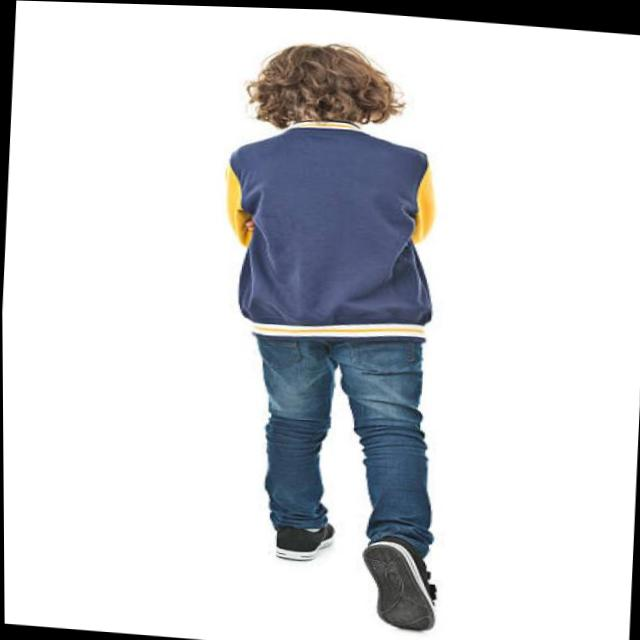no helmet: (239, 6, 412, 161)
